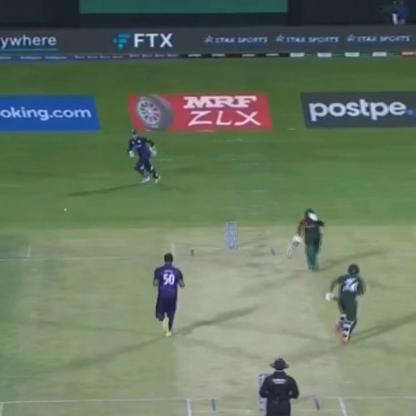ball: (56, 206, 73, 215)
bat: (280, 236, 298, 270)
pitch: (160, 228, 347, 416)
